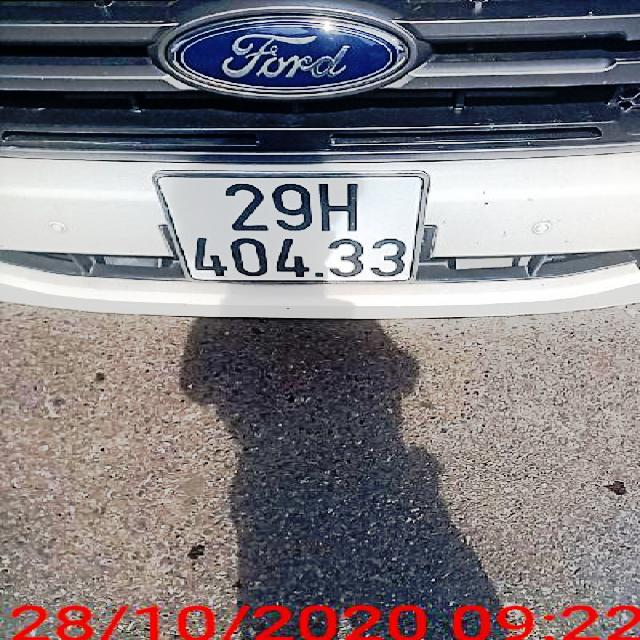license_plate: (163, 174, 434, 284)
